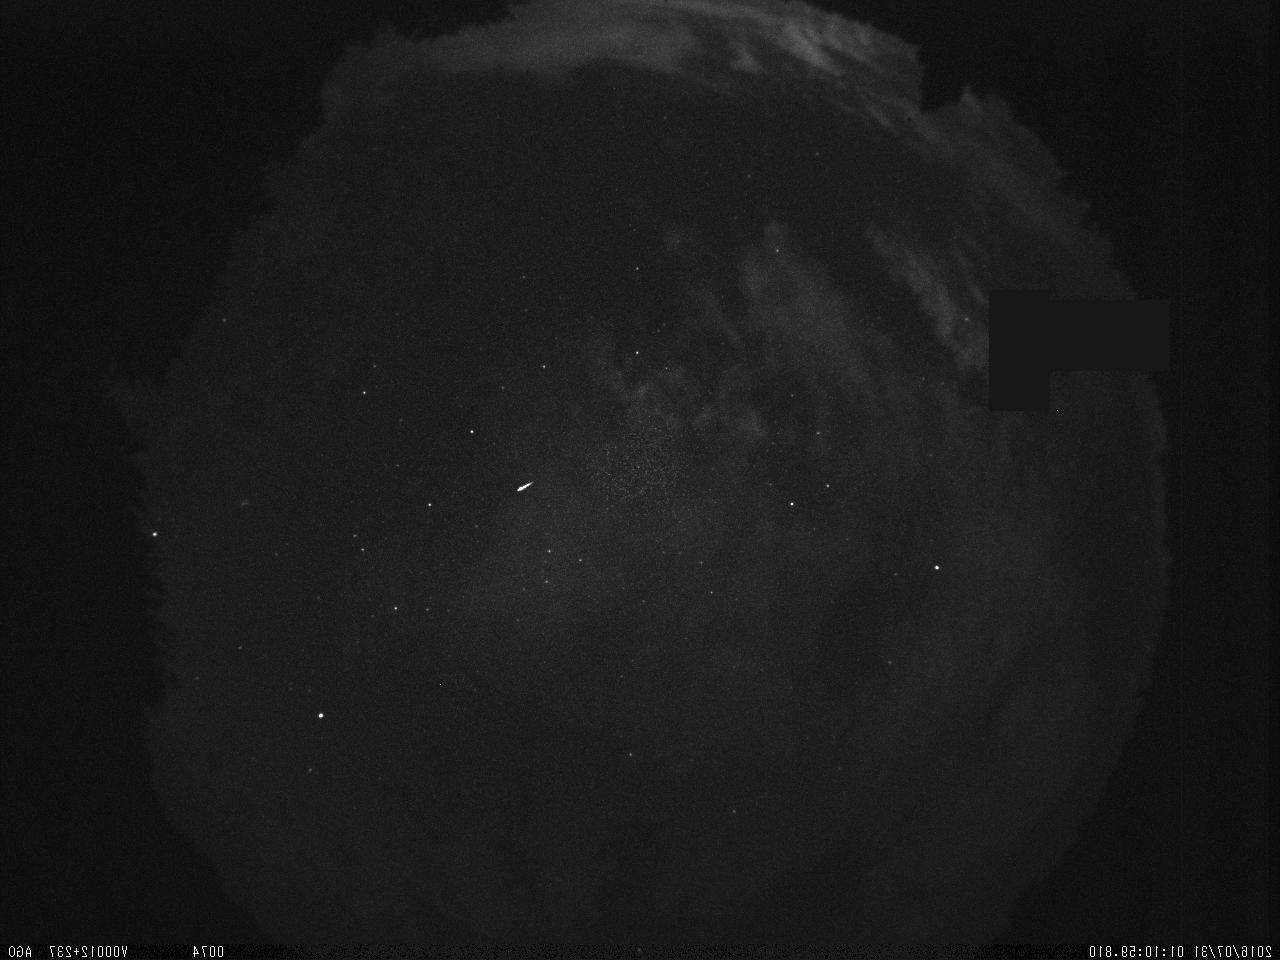meteor: (493, 469, 551, 512)
